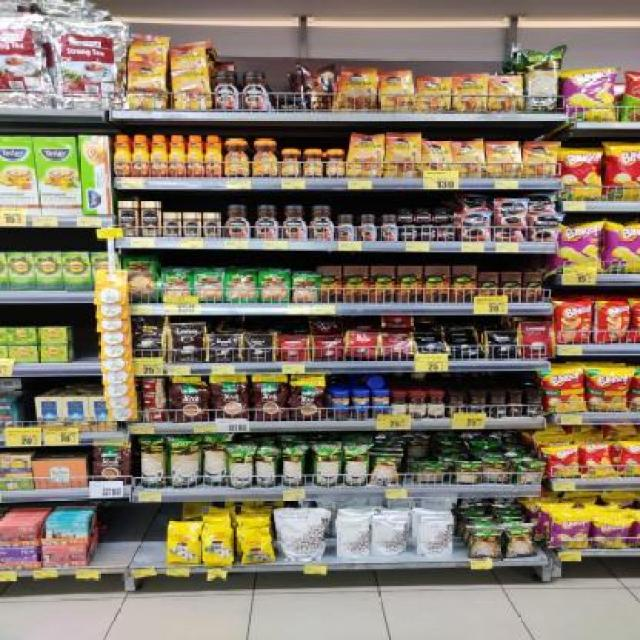Coffee: (128, 61, 166, 110), (172, 67, 211, 110), (348, 134, 384, 178), (341, 68, 376, 112), (385, 134, 420, 178), (380, 72, 414, 110), (453, 74, 487, 112), (486, 141, 520, 177), (416, 77, 450, 112), (489, 76, 522, 112), (452, 140, 485, 176), (524, 142, 556, 178), (214, 70, 241, 111), (421, 141, 451, 177), (223, 138, 251, 176), (252, 139, 280, 176), (242, 72, 268, 110), (527, 213, 561, 242), (307, 205, 335, 240), (253, 204, 281, 238), (281, 205, 308, 240), (495, 200, 527, 228), (225, 205, 252, 238), (458, 212, 489, 240), (167, 134, 187, 175), (117, 200, 140, 234), (140, 201, 162, 236), (132, 135, 150, 177), (114, 134, 131, 177), (187, 136, 204, 178), (204, 136, 222, 175), (150, 134, 167, 175), (323, 150, 346, 176), (281, 149, 302, 177), (358, 214, 379, 240), (304, 150, 324, 177), (336, 215, 358, 239), (201, 213, 222, 238), (379, 214, 399, 240), (162, 212, 182, 237), (182, 213, 202, 238), (434, 206, 451, 222), (402, 223, 418, 240), (398, 208, 414, 224), (416, 208, 432, 224), (420, 225, 437, 240), (439, 225, 456, 240)
